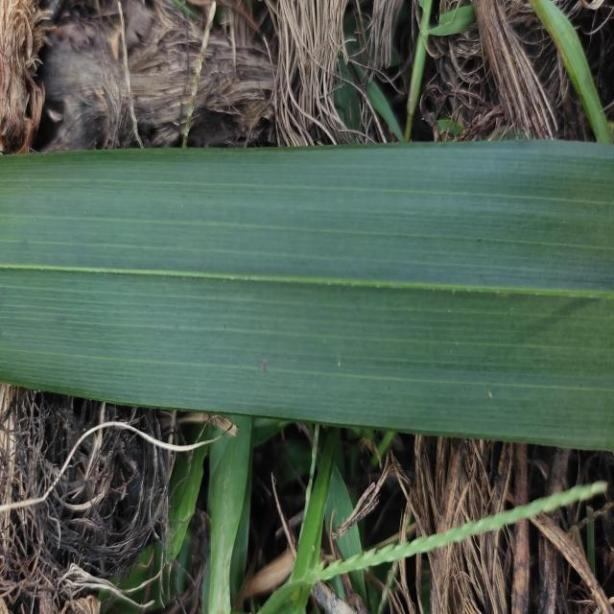Healthy: (0, 139, 614, 449)
